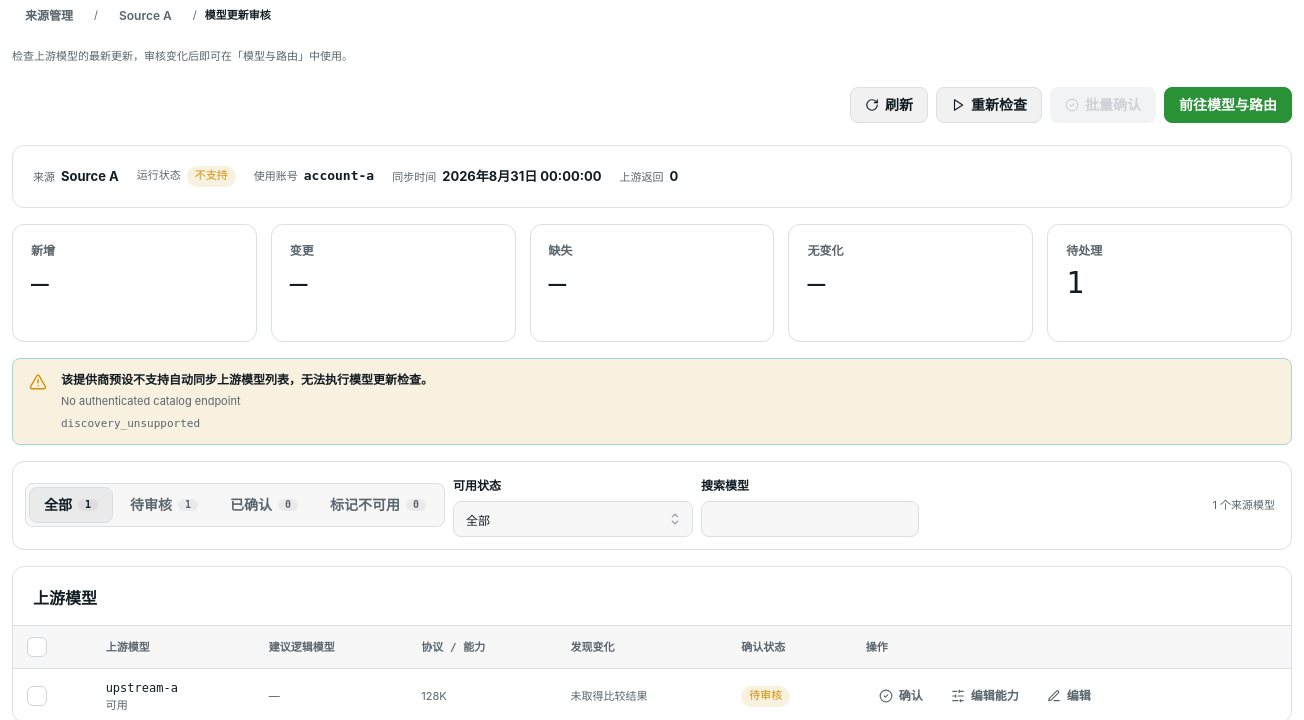
Scenario: production control-plane pages › reports a failed discovery once with its code and existing catalog
Click the button "重新检查" at (989, 105), box [936,87,1042,123]
(page scrolled)
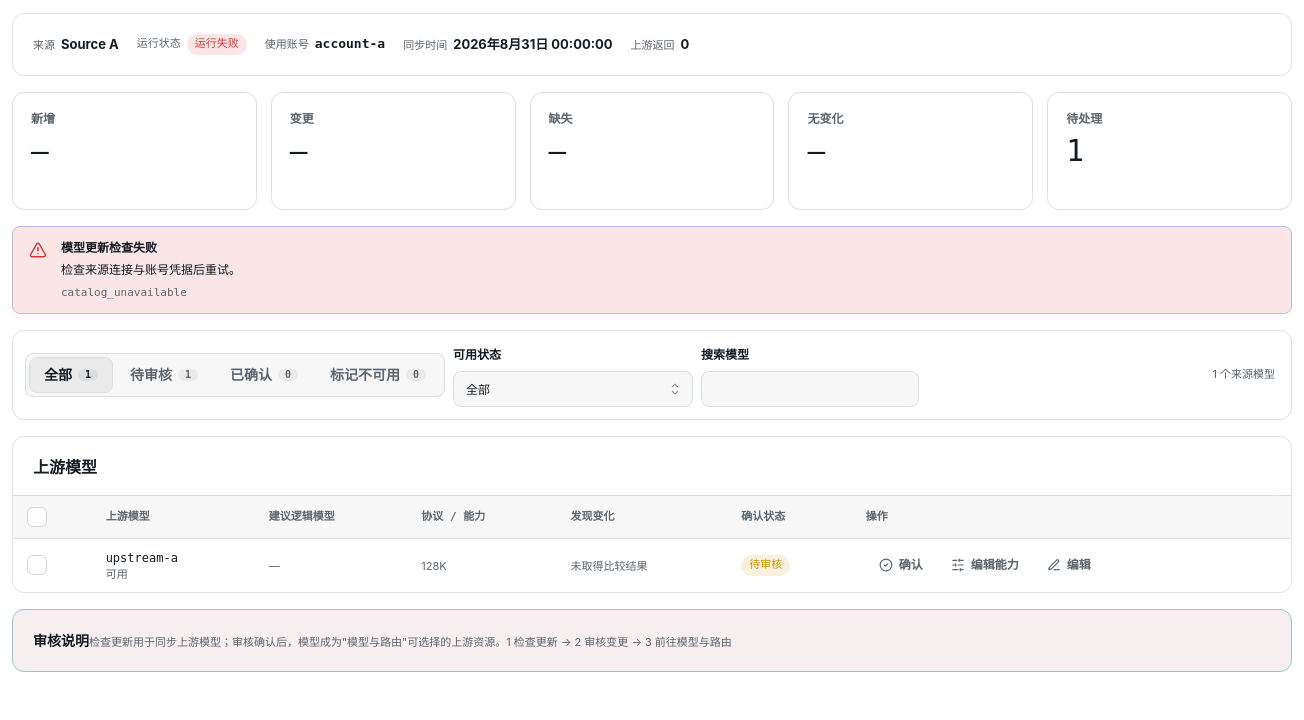
Expected: the table shows "upstream-a", [106,551,178,565]
Expected: the number of messages is 1, [12,226,1292,314]
